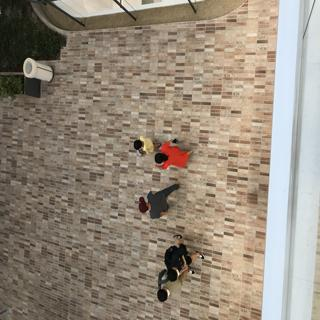person: (156, 239, 210, 281), (126, 183, 185, 221), (148, 135, 192, 177), (154, 276, 202, 307), (129, 129, 161, 163)
